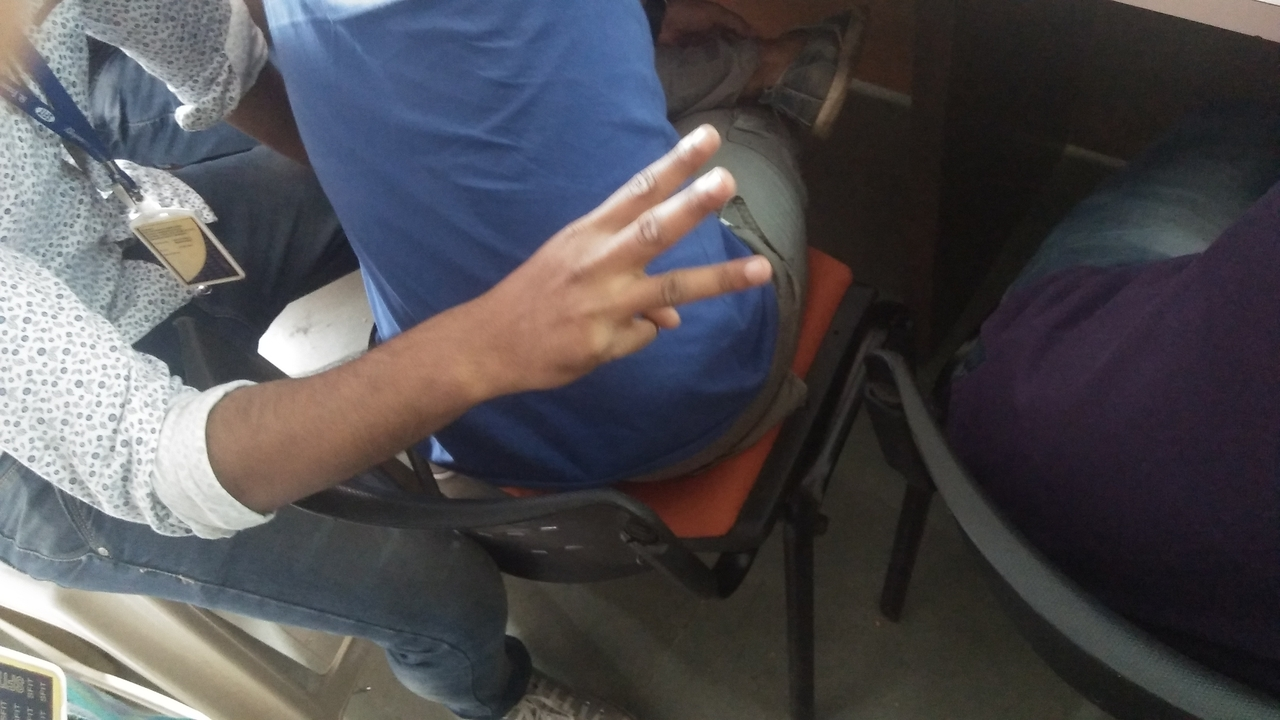fingertip: (689, 168, 748, 213), (669, 122, 724, 162), (732, 251, 780, 293)
